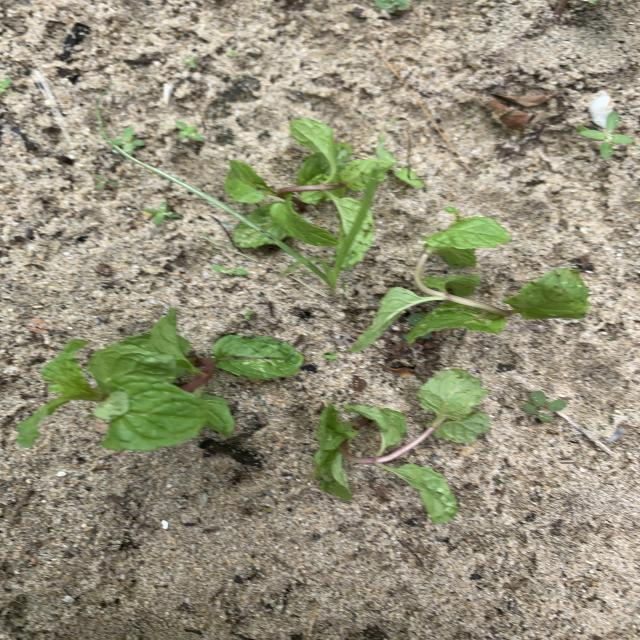crop: (16, 310, 303, 451), (350, 207, 589, 351), (314, 370, 489, 500), (225, 119, 395, 248), (385, 464, 457, 524)
weed: (113, 146, 380, 293), (577, 111, 640, 160), (521, 391, 567, 423), (112, 126, 145, 155), (143, 202, 182, 226), (175, 121, 205, 147), (212, 265, 250, 278), (93, 174, 118, 191), (323, 353, 340, 362)
